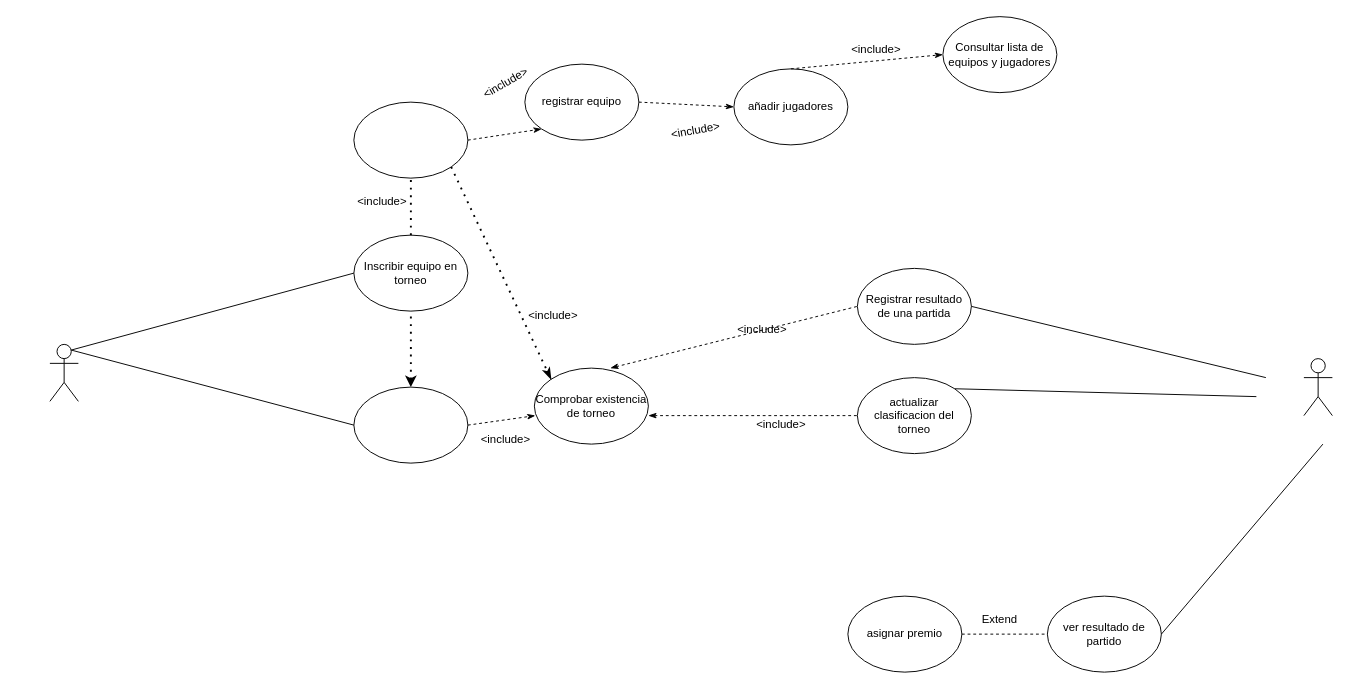
The diagram is 1361 pixels wide and 689 high, and some of its shapes have lost their labels. The centre of each missing label's shape, as x and y in pixels:
ADMINISTRADOR: point (63, 372)
Crear torneo: point (410, 424)
generar emparejamiento de partida: point (410, 139)
SYSTEMA: point (1317, 387)
